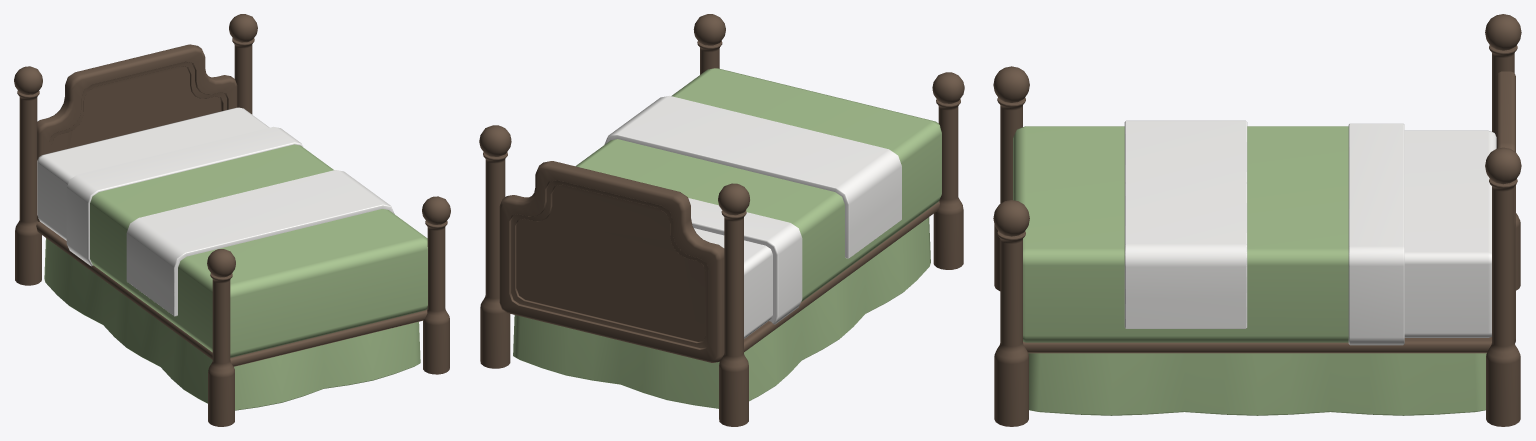
Rendered from Bed_7.glb.
3 renders of one model, left to right at view 1: azimuth 30°, elevation 25°; view 2: azimuth 150°, elevation 25°; view 3: azimuth 270°, elevation 25°, orthographic. The views are drawn at different scales.
Visible parts, largest first — view 1: Bed_7; view 2: Bed_7; view 3: Bed_7.
Boxes of the visible parts, x1,y1,x2,y2 form: Bed_7: (14, 14, 450, 426); Bed_7: (479, 14, 964, 426); Bed_7: (993, 14, 1521, 426).
Size of the model in its own units: 1.84 by 1.56 by 2.76.
Materials: 1 (1 with a texture image).
